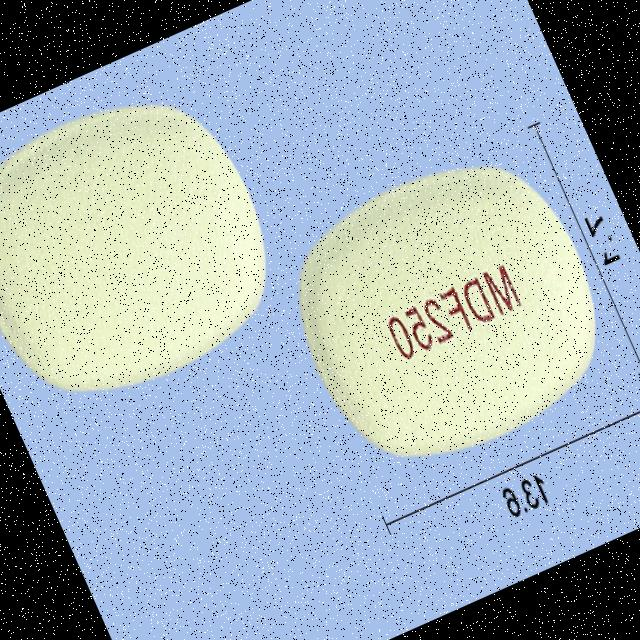Clarid - 250mg: (258, 126, 639, 500), (0, 62, 304, 431)
